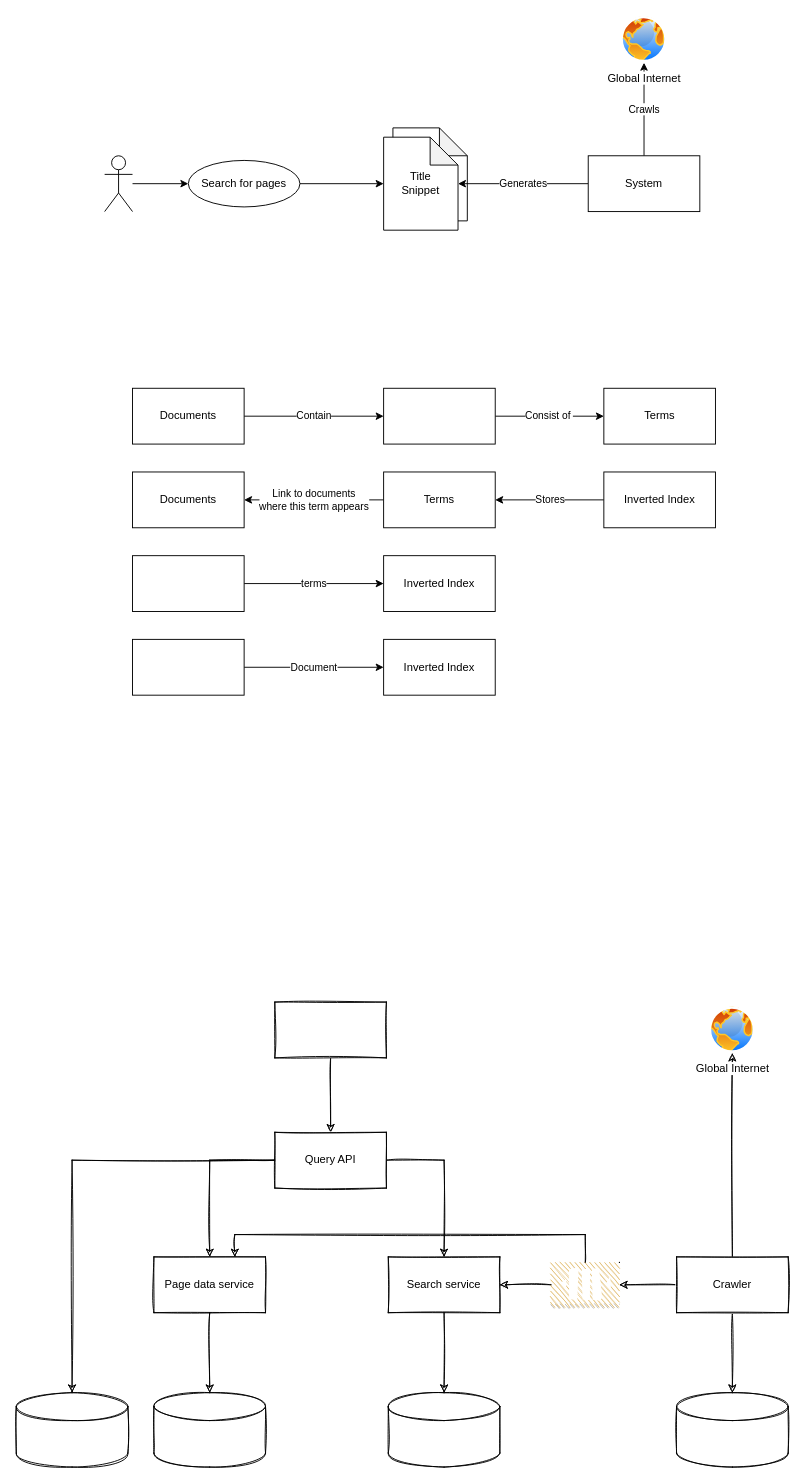
Some shapes in this 804 by 1483 pixel diagram are drawn without their labels. Here are the shapes that lost their labels. From the top down, the box of each, then its label:
(104, 155, 133, 212): User
(383, 387, 495, 444): Fields
(132, 555, 244, 611): Search query
(132, 638, 244, 695): Write command
(274, 1001, 386, 1058): Client
(15, 1392, 128, 1467): Query cache storage
(153, 1392, 266, 1467): Page storage
(387, 1392, 500, 1467): Search storage
(676, 1392, 788, 1467): Crawler storage
